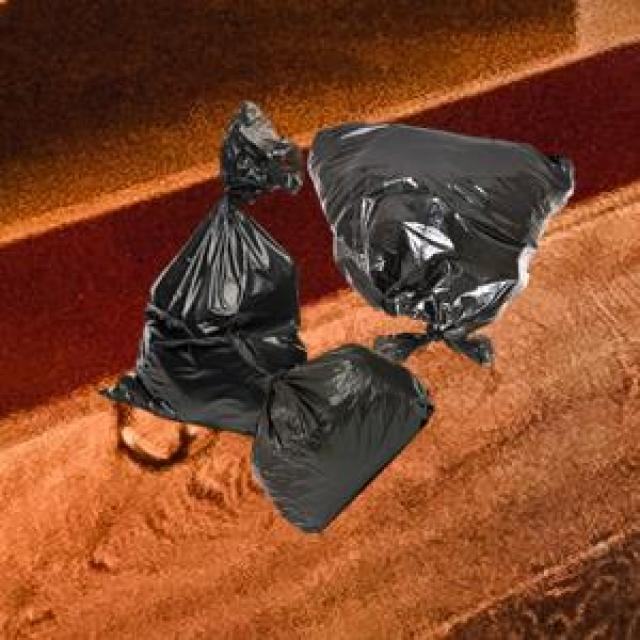Trashbag: (312, 116, 564, 322), (117, 198, 278, 426), (248, 346, 420, 516)
